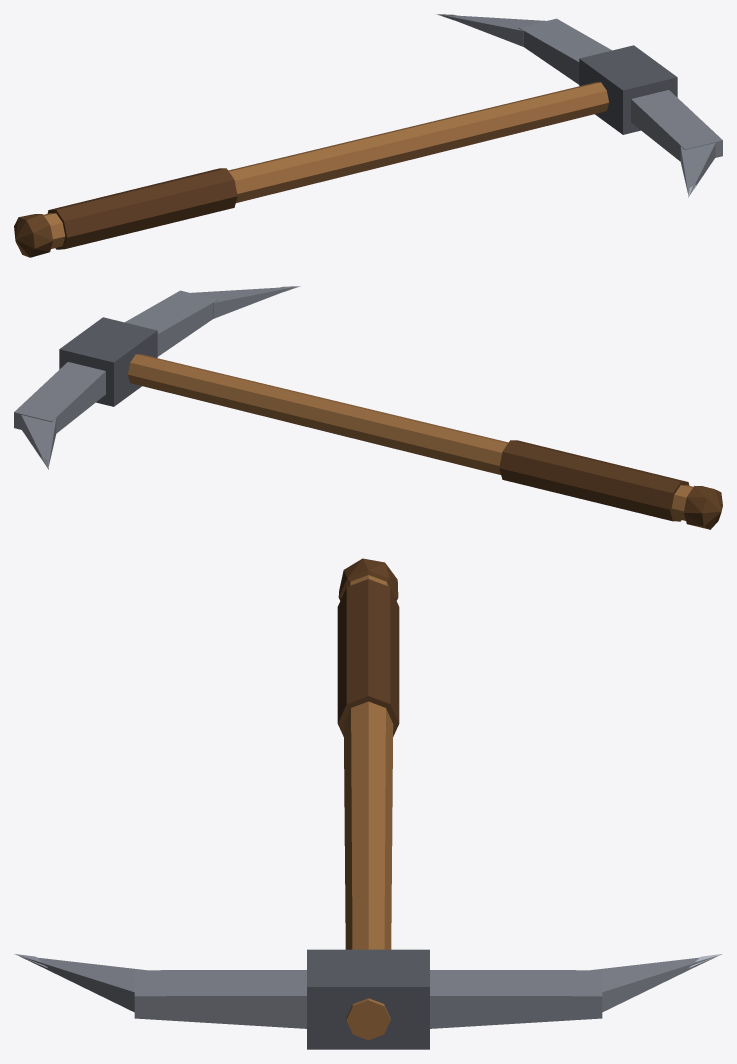
Rendered from drop_iron_pickaxe.glb.
3 renders of one model, top to bottom at view 1: azimuth 30°, elevation 25°; view 2: azimuth 150°, elevation 25°; view 3: azimuth 270°, elevation 25°, orthographic. The views are drawn at different scales.
Parts seen in each view (by area): view 1: drop_iron_pickaxe; view 2: drop_iron_pickaxe; view 3: drop_iron_pickaxe.
Part boxes in pixels (box(x1,y1,x2,y2)): drop_iron_pickaxe: box(14, 14, 722, 257); drop_iron_pickaxe: box(14, 286, 722, 529); drop_iron_pickaxe: box(15, 558, 721, 1049).
Size of the model in its own units: 0.6792 by 0.0448 by 0.4608.
